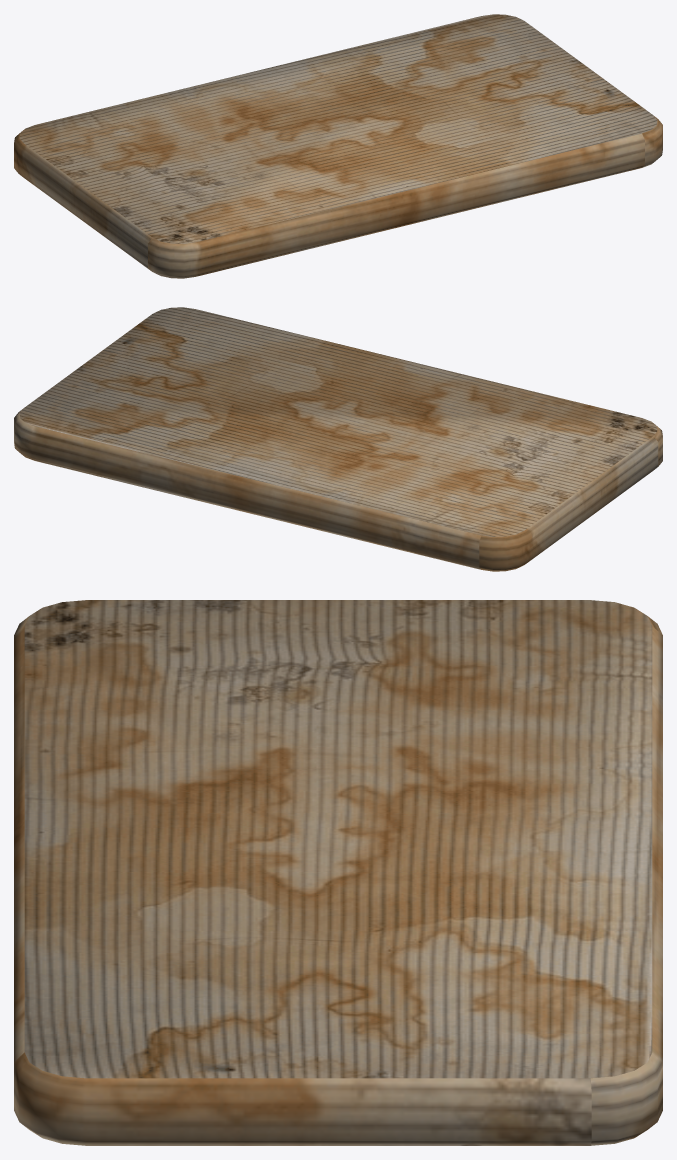
The model's file is mattress1.fbx.
3 views of the same model, one above another, from view 1: azimuth 30°, elevation 25°; view 2: azimuth 150°, elevation 25°; view 3: azimuth 270°, elevation 25° (orthographic). The views are drawn at different scales.
Visible parts, largest first — view 1: mattress1; view 2: mattress1; view 3: mattress1.
Part boxes in pixels (left/top/right/bottom): mattress1: left=14, top=14, right=662, bottom=278; mattress1: left=14, top=307, right=662, bottom=571; mattress1: left=14, top=600, right=662, bottom=1145.
Bounding box in the file's own units: 2 × 0.1293 × 1.13.
Materials: 1 (1 with a texture image).
